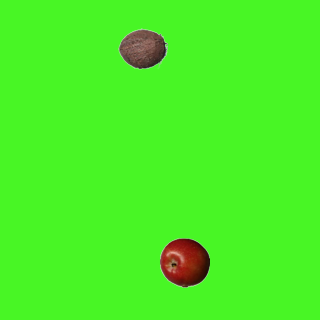Apple Braeburn: (159, 237, 209, 287)
Cocos: (117, 23, 167, 73)
